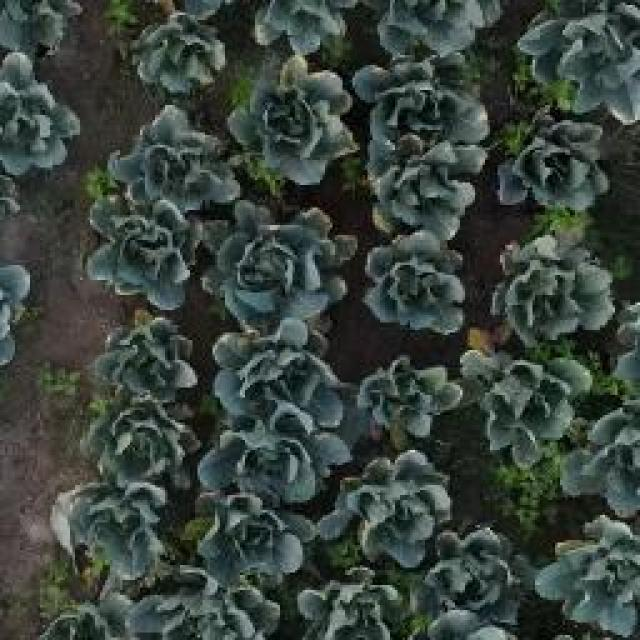cabbage: (202, 199, 354, 332), (226, 60, 360, 198), (461, 344, 592, 466), (353, 44, 492, 150), (56, 469, 178, 587), (518, 0, 639, 118), (356, 133, 484, 244), (486, 235, 616, 344), (203, 410, 344, 510), (530, 512, 640, 640), (110, 103, 242, 209), (338, 449, 457, 566), (191, 489, 325, 592), (84, 196, 201, 311), (492, 116, 612, 222), (420, 518, 528, 630), (78, 380, 197, 481), (360, 230, 466, 339), (0, 52, 87, 178), (122, 1, 234, 97), (93, 304, 205, 400), (232, 339, 334, 418), (368, 364, 455, 431)
